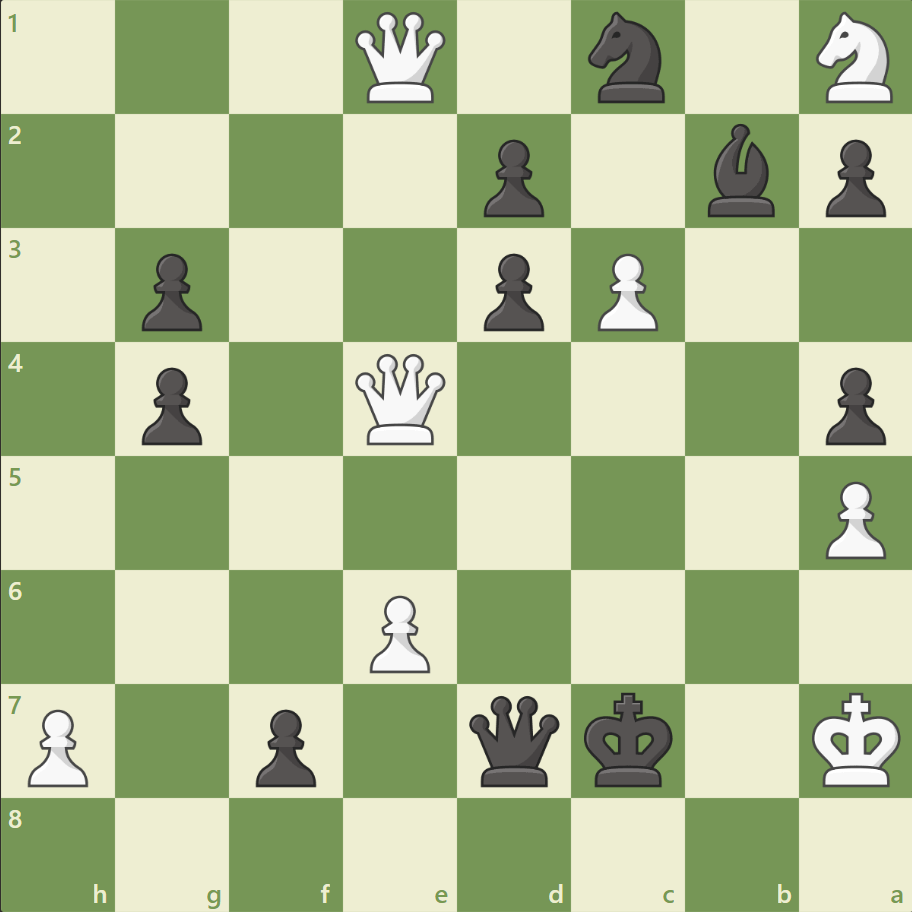K: (806, 685, 906, 793)
N: (806, 7, 903, 110)
P: (20, 700, 95, 791), (361, 586, 435, 677), (815, 473, 889, 564), (588, 246, 662, 337)
Q: (351, 349, 450, 449), (351, 9, 450, 108)
b: (698, 120, 782, 222)
k: (579, 685, 679, 793)
n: (579, 7, 676, 110)
p: (247, 700, 322, 791), (133, 359, 208, 450), (474, 246, 549, 337), (133, 246, 208, 337), (474, 132, 549, 223), (815, 359, 889, 450), (815, 132, 889, 223)
q: (464, 690, 563, 789)
